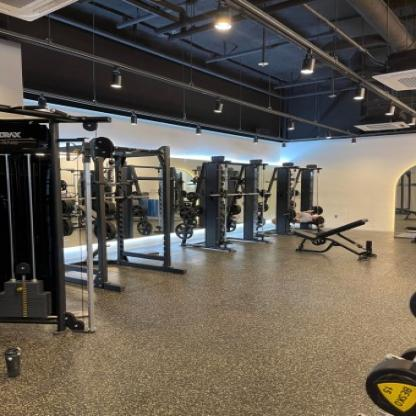smith machine: (66, 143, 188, 295), (177, 156, 273, 253), (265, 160, 324, 236)
